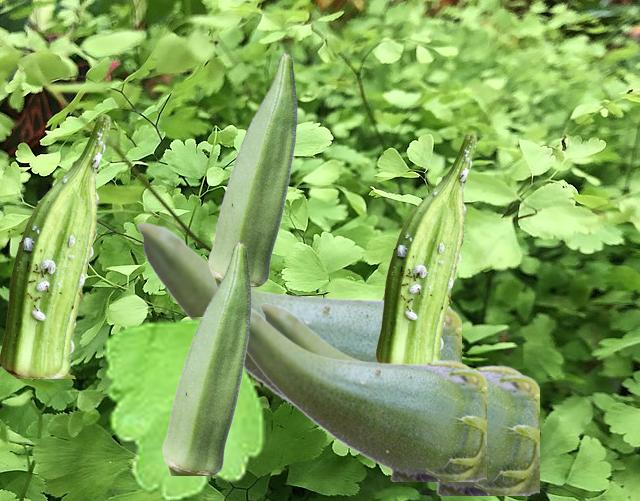okra: (136, 221, 460, 407), (259, 302, 538, 494), (247, 307, 485, 480), (0, 114, 110, 377), (376, 133, 476, 362), (208, 52, 296, 285), (162, 241, 250, 474)
